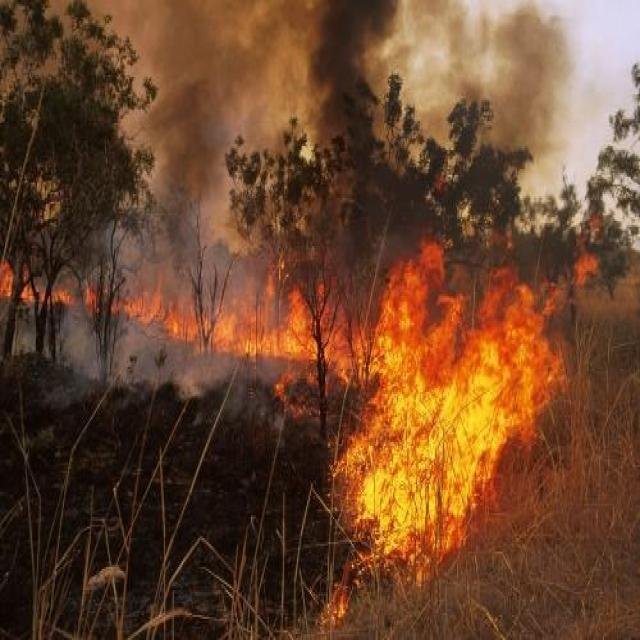Fire: (2, 209, 606, 626)
Smoke: (11, 2, 578, 450)
